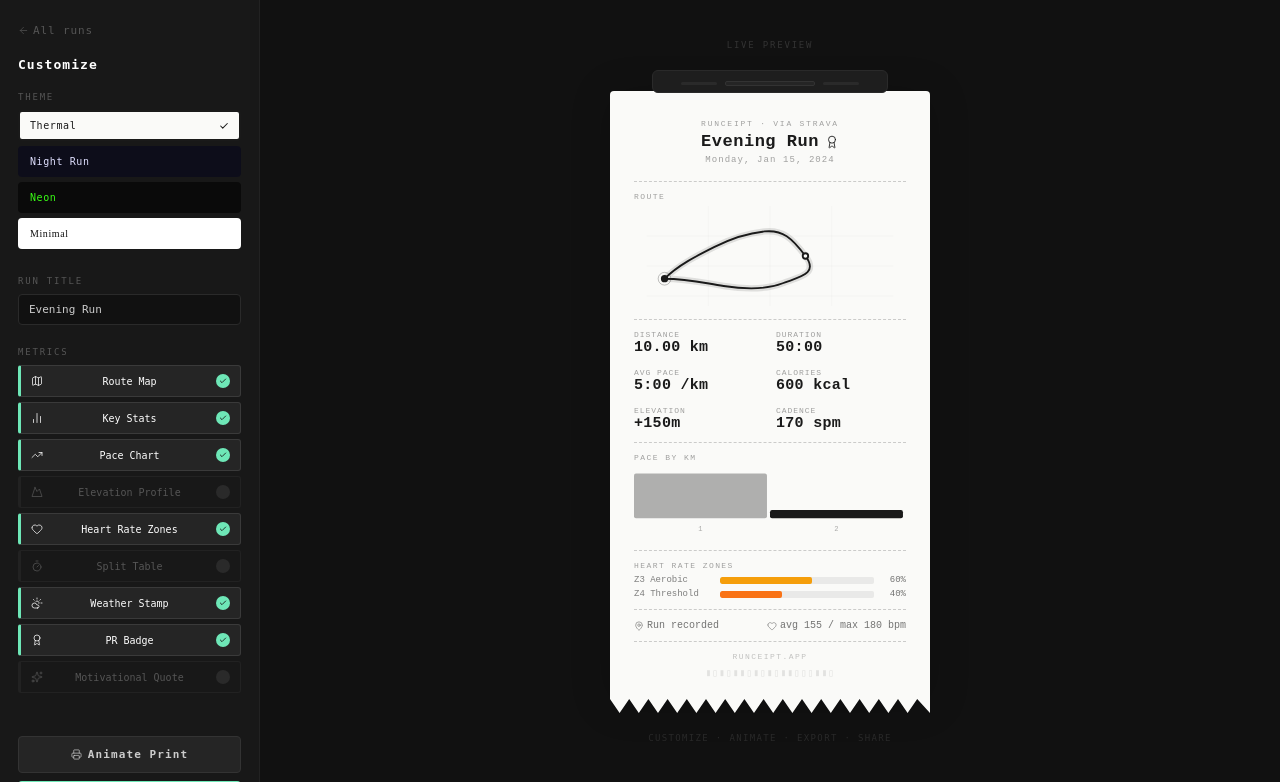
Test case: Receipt page › allows editing the run title
Replace the text in the field showing "Evening Run" with "My Custom Title" at [130, 310], box [18,294,241,325]
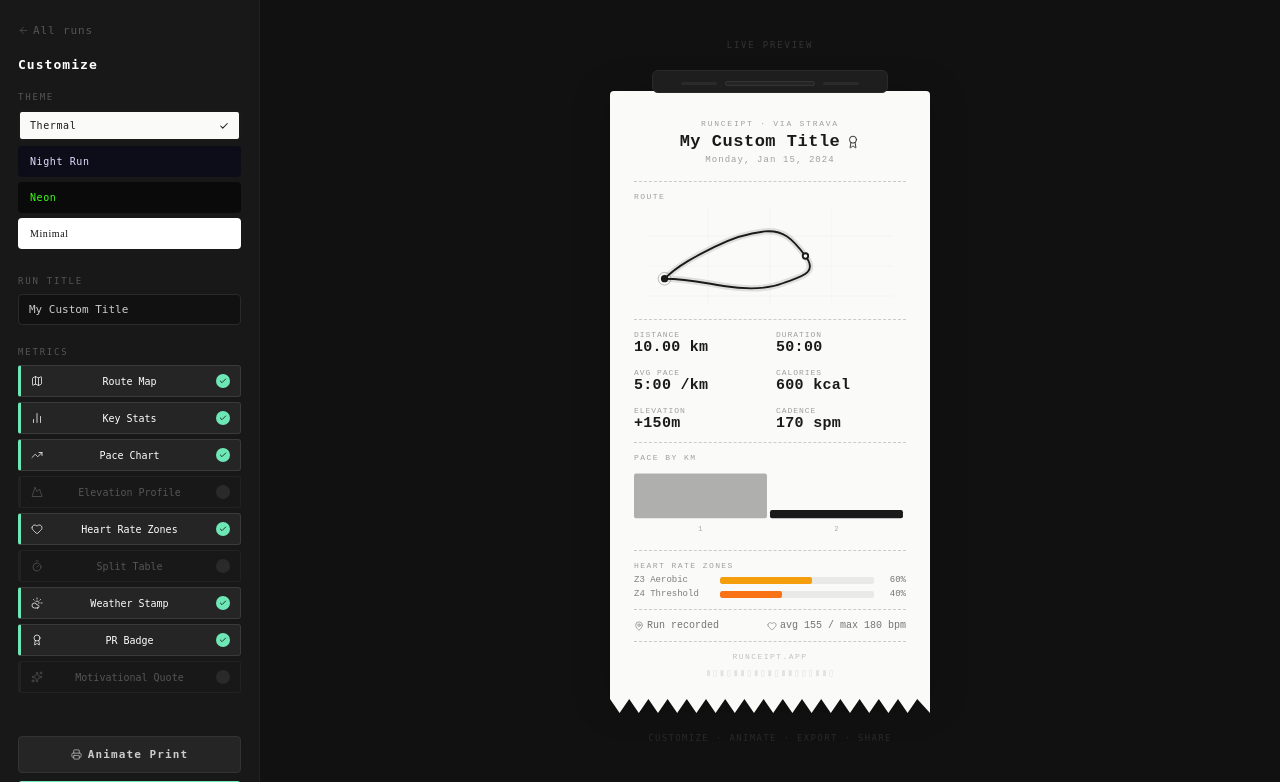
Now the text "My Custom Title" is shown, box [680,132,860,151]
